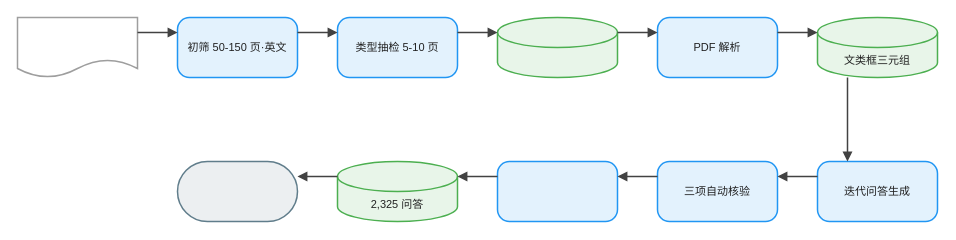
The diagram is 956 pixels wide and 240 high, and some of its shapes have lost their labels. The centre of each missing label's shape, as x and y in pixels:
CC PDF 20 万: (77,47)
HF 公开发布: (237,191)
人工核验: (557,191)
保留 396 份: (557,47)
